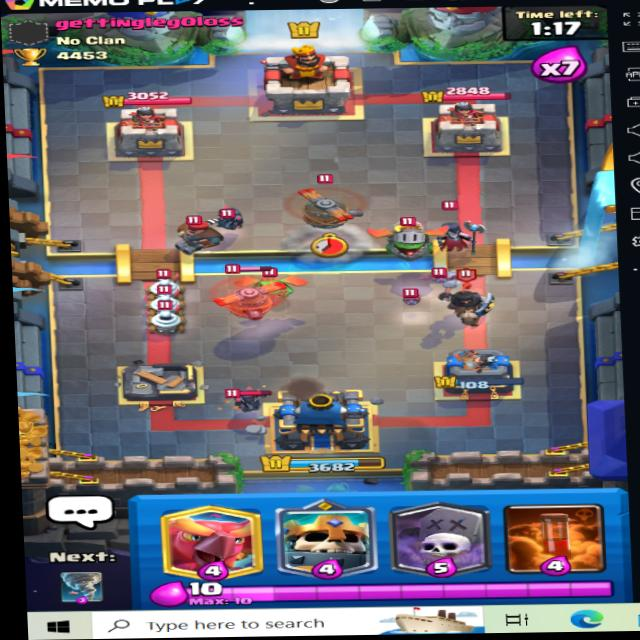baby-dragon: (241, 270, 312, 305)
bats: (390, 289, 423, 308), (423, 269, 457, 285)
dark-prince: (438, 274, 499, 325)
flying-machine: (284, 167, 373, 234), (201, 266, 293, 322)
hunter: (169, 212, 234, 253)
inferno-dragon: (382, 208, 438, 263)
mini-pekka: (208, 200, 284, 232), (214, 384, 269, 415)
night-witch: (427, 213, 481, 257)
zappie: (150, 301, 189, 332), (147, 282, 185, 313), (147, 271, 190, 298)
